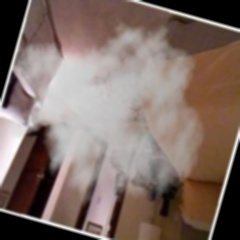smoke: (33, 41, 182, 193)
